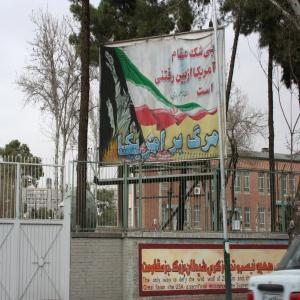Vehicle-registration-plate: (262, 292, 285, 300)
